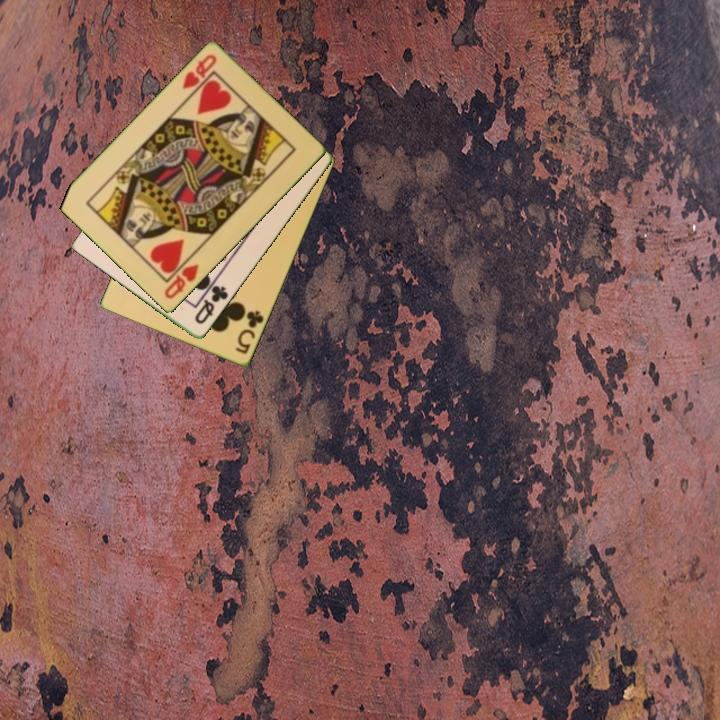5c: (232, 307, 267, 357)
Qc: (191, 282, 231, 327)
Qh: (179, 51, 220, 93), (161, 261, 202, 302)
